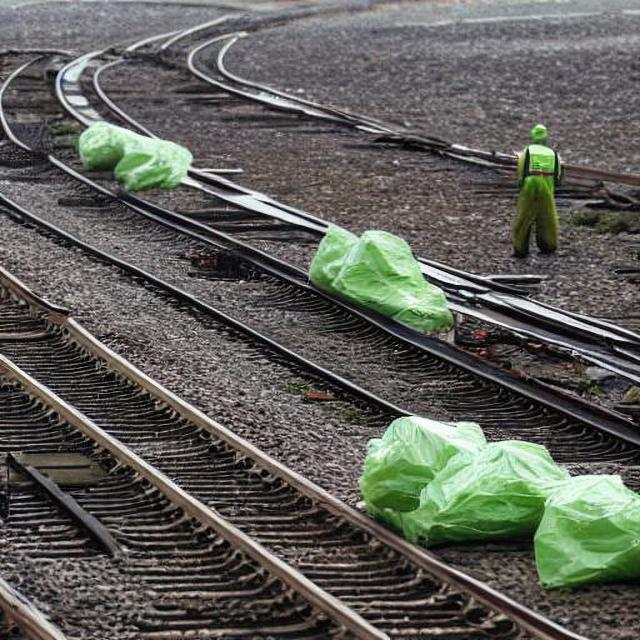plastic bag: (361, 402, 640, 598), (311, 214, 458, 338), (75, 118, 199, 199)
